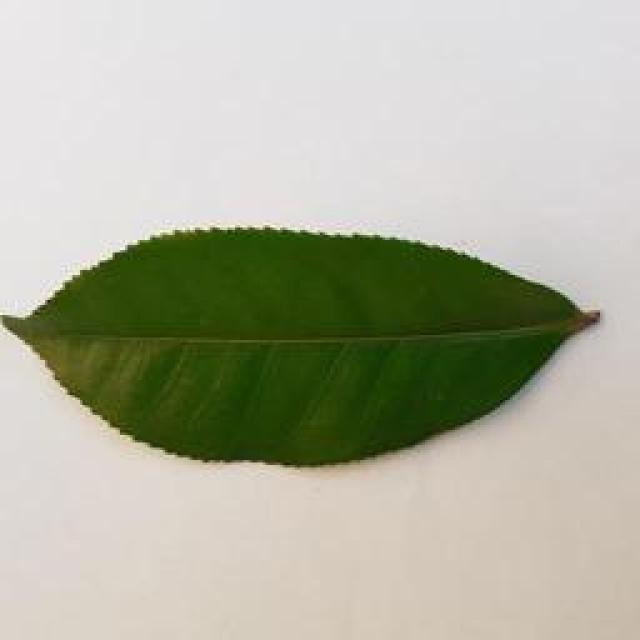Healthy: (2, 212, 626, 478)
